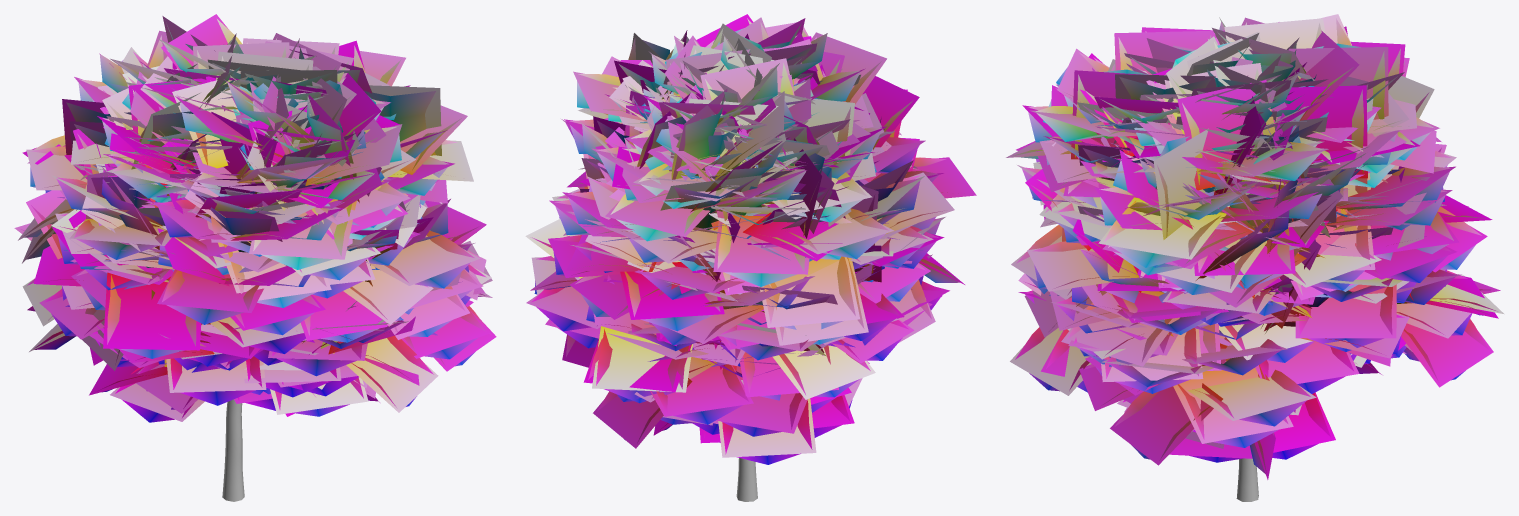
Rendered from oak_03_1.fbx.
3 views of the same model, side by side, from view 1: azimuth 30°, elevation 25°; view 2: azimuth 150°, elevation 25°; view 3: azimuth 270°, elevation 25° (orthographic). The views are drawn at different scales.
Visible parts, largest first — view 1: oak_leaves_03_1_shadow, oak_leaves_03_1_lod_0, oak_tree_03_1_lod_0; view 2: oak_leaves_03_1_shadow, oak_leaves_03_1_lod_0, oak_tree_03_1_lod_0; view 3: oak_leaves_03_1_shadow, oak_leaves_03_1_lod_0, oak_tree_03_1_lod_0.
Boxes of the visible parts, box(x1,y1,x2,y2) form: oak_leaves_03_1_shadow: box(14, 14, 496, 421); oak_leaves_03_1_lod_0: box(21, 19, 491, 422); oak_tree_03_1_lod_0: box(222, 399, 244, 501); oak_leaves_03_1_shadow: box(525, 14, 976, 457); oak_leaves_03_1_lod_0: box(531, 18, 960, 464); oak_tree_03_1_lod_0: box(736, 458, 757, 501); oak_leaves_03_1_shadow: box(1006, 14, 1504, 479); oak_leaves_03_1_lod_0: box(1013, 18, 1497, 474); oak_tree_03_1_lod_0: box(1236, 304, 1397, 501).
Size of what is drawn, in the model's own units: 18.68 by 19.05 by 18.73.
